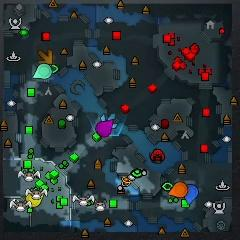p1: (185, 184, 199, 205)
p2: (32, 63, 51, 79)
p3: (96, 119, 113, 137)
p4: (26, 192, 44, 207)
p5: (169, 182, 188, 198)
x3: (101, 112, 117, 129)
x5: (37, 49, 53, 64)
